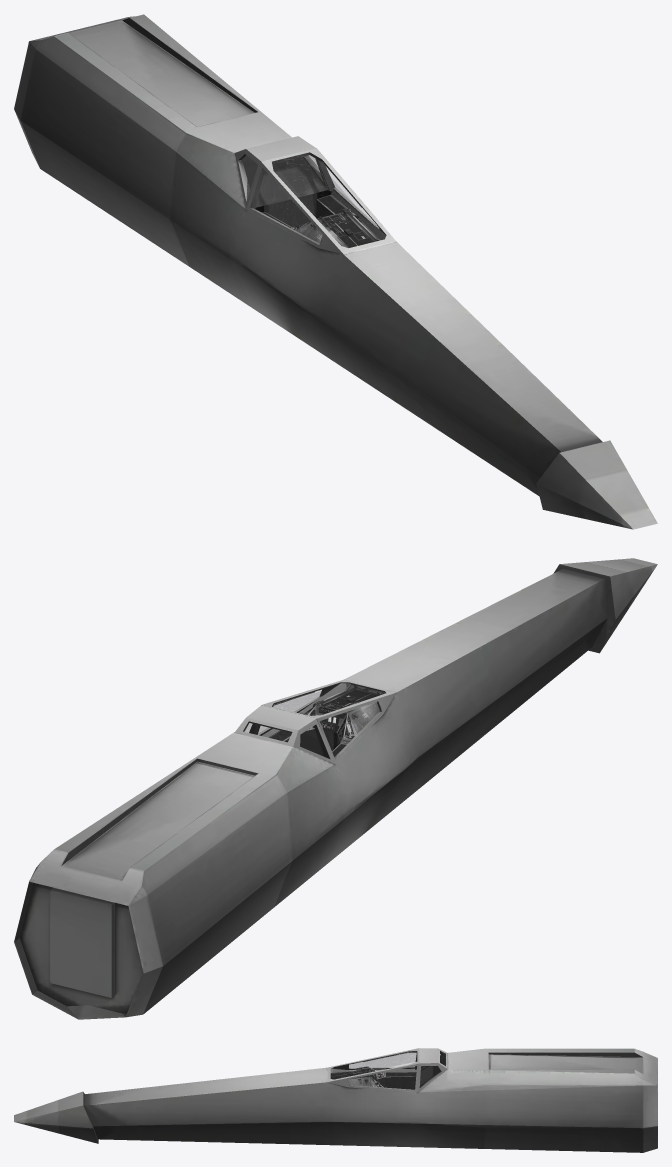
The model's file is fighter-cockpit.glb.
3 views of the same model, one above another, from view 1: azimuth 30°, elevation 25°; view 2: azimuth 150°, elevation 25°; view 3: azimuth 270°, elevation 25° (orthographic). The views are drawn at different scales.
Visible parts, largest first — view 1: hull_hull_0, windows_glass_0, canopy_canopy_front_0, console_console_0, canopy_back_canopy_back_0, cockpit_1_cockpit_0; view 2: hull_hull_0, windows_glass_0, console_console_0, canopy_back_canopy_back_0, canopy_canopy_front_0; view 3: hull_hull_0, windows_glass_0, canopy_canopy_front_0, console_console_0, canopy_back_canopy_back_0, cockpit_1_cockpit_0, cockpitrim_base_grey_0.
Boxes of the visible parts, x1,y1,x2,y2 form: hull_hull_0: [14, 14, 657, 529]; windows_glass_0: [250, 153, 383, 245]; canopy_canopy_front_0: [247, 148, 396, 254]; console_console_0: [262, 195, 379, 247]; canopy_back_canopy_back_0: [234, 136, 328, 209]; cockpit_1_cockpit_0: [255, 190, 333, 227]; hull_hull_0: [14, 558, 657, 1019]; windows_glass_0: [244, 683, 384, 758]; console_console_0: [269, 688, 381, 756]; canopy_back_canopy_back_0: [234, 705, 334, 763]; canopy_canopy_front_0: [256, 679, 396, 763]; hull_hull_0: [14, 1048, 657, 1152]; windows_glass_0: [331, 1051, 445, 1089]; canopy_canopy_front_0: [327, 1048, 419, 1092]; console_console_0: [330, 1068, 416, 1087]; canopy_back_canopy_back_0: [417, 1048, 447, 1092]; cockpit_1_cockpit_0: [376, 1076, 415, 1089]; cockpitrim_base_grey_0: [330, 1068, 416, 1085].
Size of the model in its own units: 2.12 by 2.19 by 14.58.
Materials: 18 (16 with a texture image).
